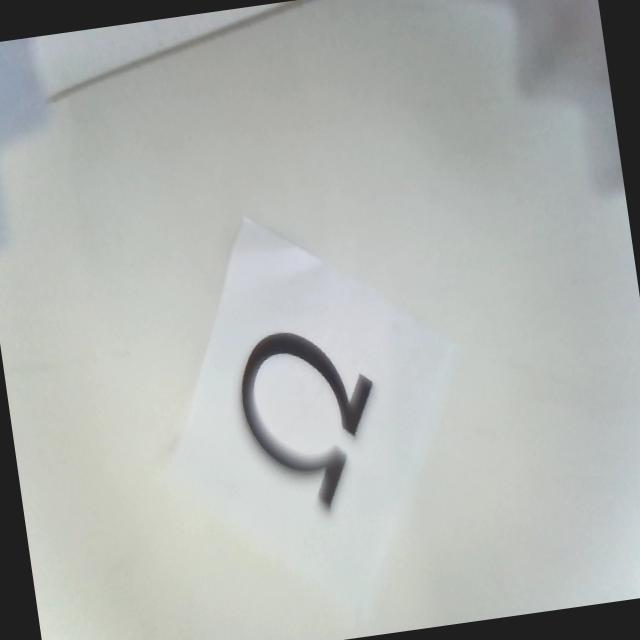OM: (229, 316, 392, 518)
